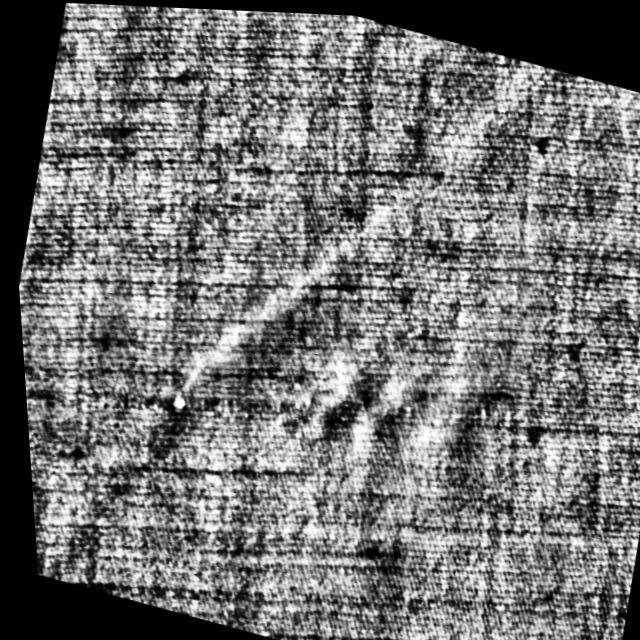Hole: (148, 361, 198, 432)
